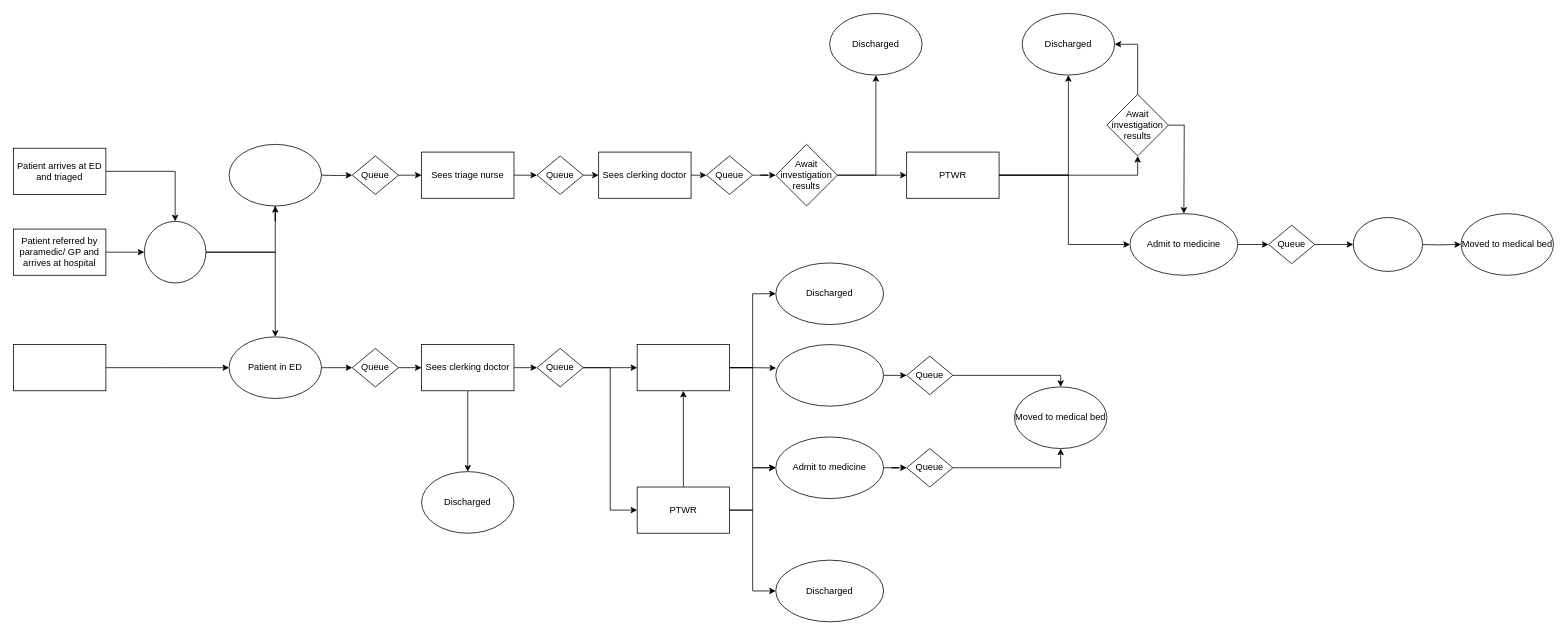
The diagram is 1567 pixels wide and 635 high, and some of its shapes have lost their labels. Here are the shapes that lost their labels. From the top down, the box of each, then its label:
(228, 144, 321, 206): Patient in SDEC
(144, 221, 206, 283): SDEC criteria
(1353, 217, 1423, 271): QC
(13, 344, 106, 391): Patient referred to medical take by ED
(636, 344, 730, 391): Cardio PTWR
(775, 344, 884, 406): Admit to cardiology
